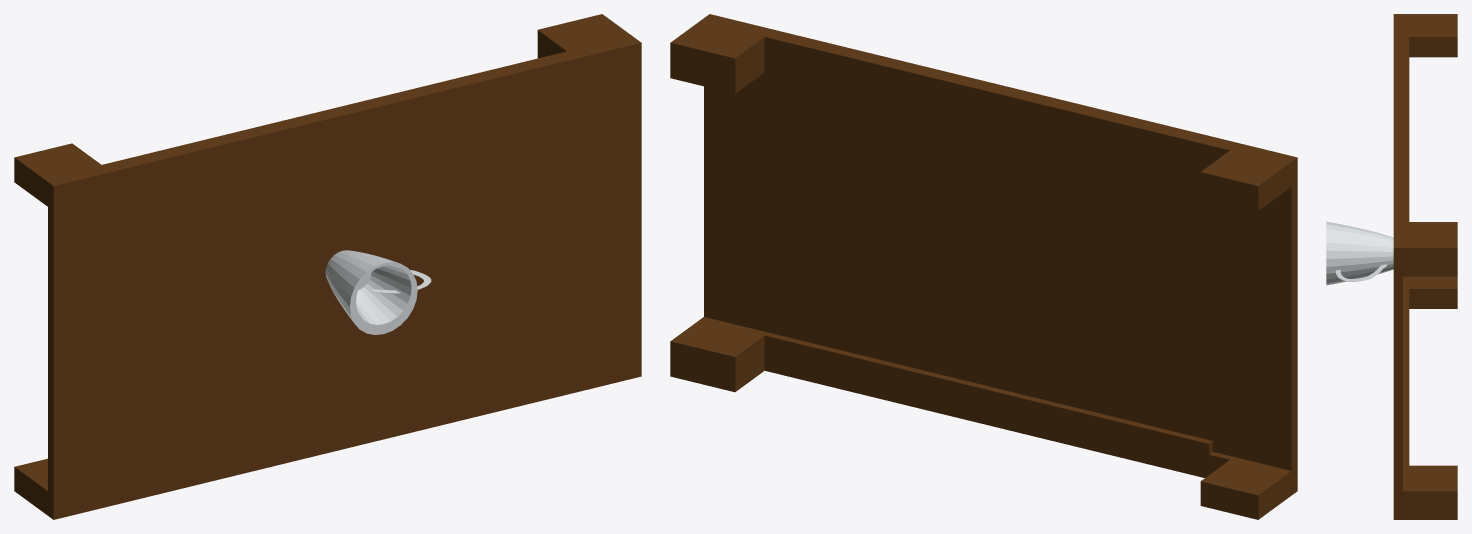
File: tinker.obj
The picture shows the model from 3 angles, left to right: view 1: azimuth 30°, elevation 25°; view 2: azimuth 150°, elevation 25°; view 3: azimuth 270°, elevation 25°; orthographic projection. The views are drawn at different scales.
Parts seen in each view (by area): view 1: group_0_6306067, group_0_14541540; view 2: group_0_6306067; view 3: group_0_6306067, group_0_14541540.
Part boxes in pixels (x1,y1,x2,y2): group_0_6306067: (14,14,641,519); group_0_14541540: (325,250,431,334); group_0_6306067: (670,14,1297,519); group_0_6306067: (1393,14,1457,519); group_0_14541540: (1326,221,1393,285).
Bounding box in the file's own units: 173 × 93.92 × 41.
